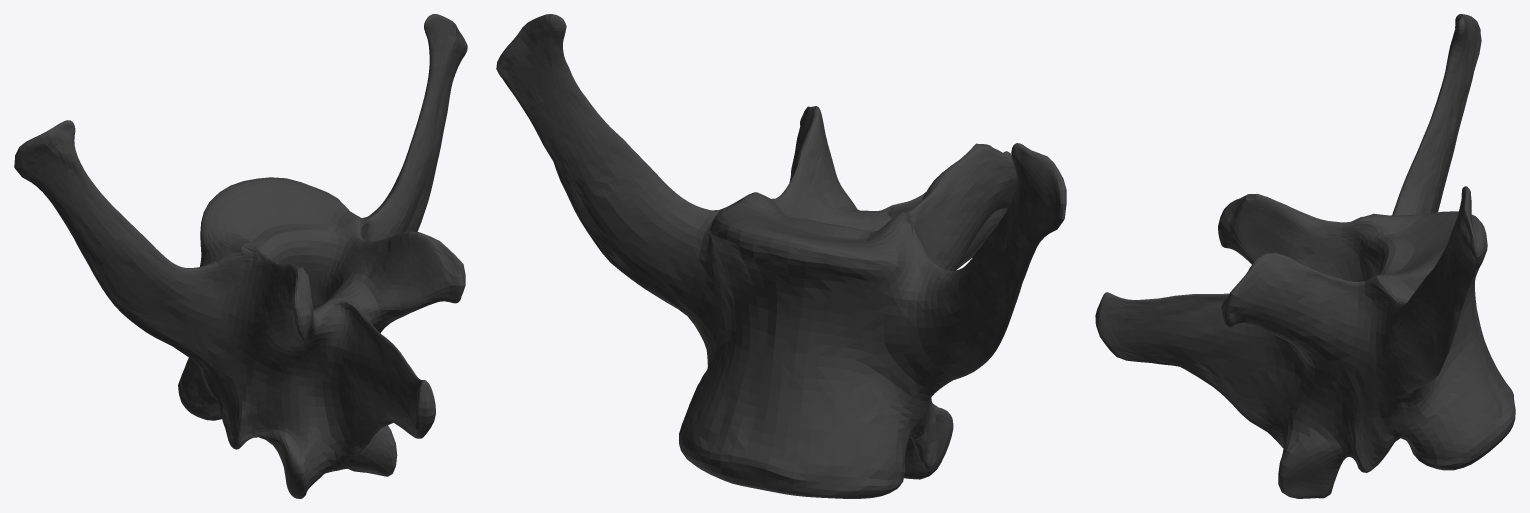
The picture shows the model from 3 angles, left to right: view 1: azimuth 30°, elevation 25°; view 2: azimuth 150°, elevation 25°; view 3: azimuth 270°, elevation 25°; orthographic projection. The views are drawn at different scales.
Visible parts, largest first — view 1: l5_low; view 2: l5_low; view 3: l5_low.
Boxes of the visible parts, <box> form: l5_low: <box>14,14,467,498</box>; l5_low: <box>496,14,1066,498</box>; l5_low: <box>1095,14,1515,498</box>.
Bounding box in the file's own units: 76.71 × 60.63 × 60.43.
1 material, 1 textured.
